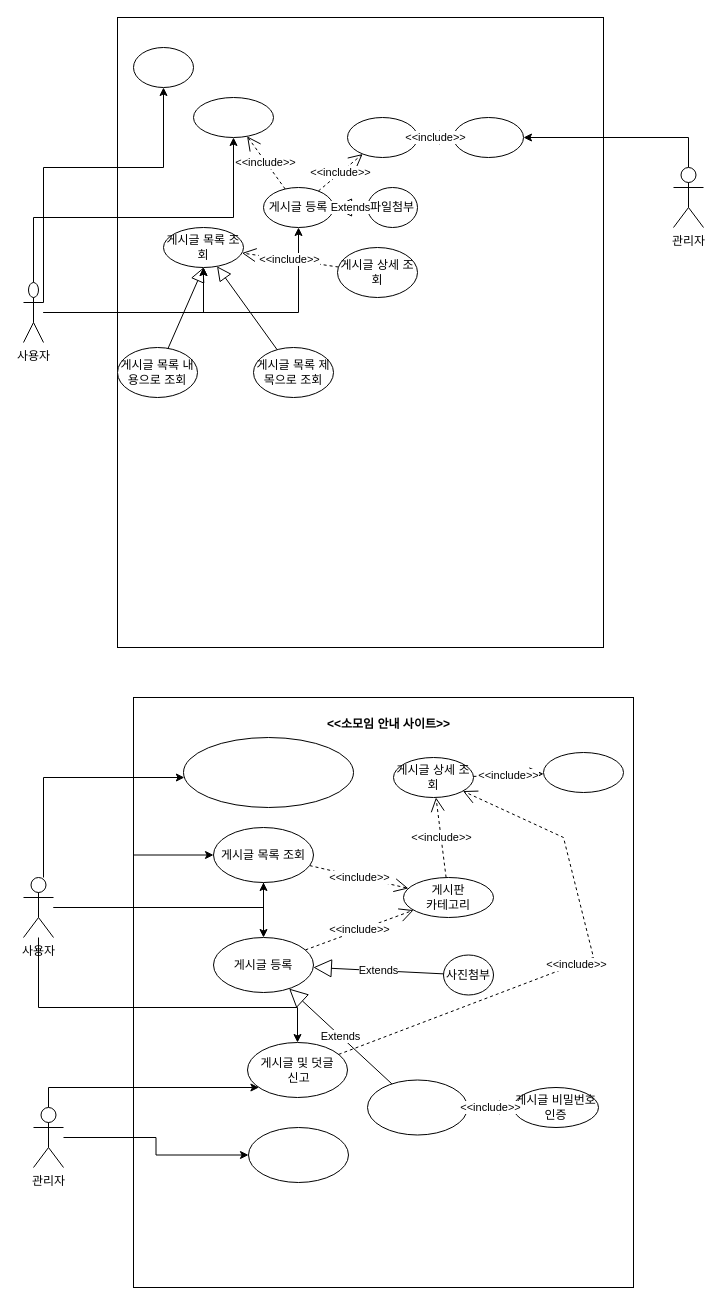
The diagram is 722 pixels wide and 1305 high, and some of its shapes have lost their labels. Each missing label, with the centre of its shape:
"게시글 덧글 작성" goes at point (583, 772).
"게시글 수정 삭제" goes at point (417, 1107).
"로그인" goes at point (233, 117).
"사이트 정보 조회" goes at point (298, 1154).
"소모임 생성 및 가입신청" goes at point (268, 772).
"카테고리 등록" goes at point (488, 137).
"카테고리 선택" goes at point (382, 137).
"회원가입" goes at point (163, 67).
